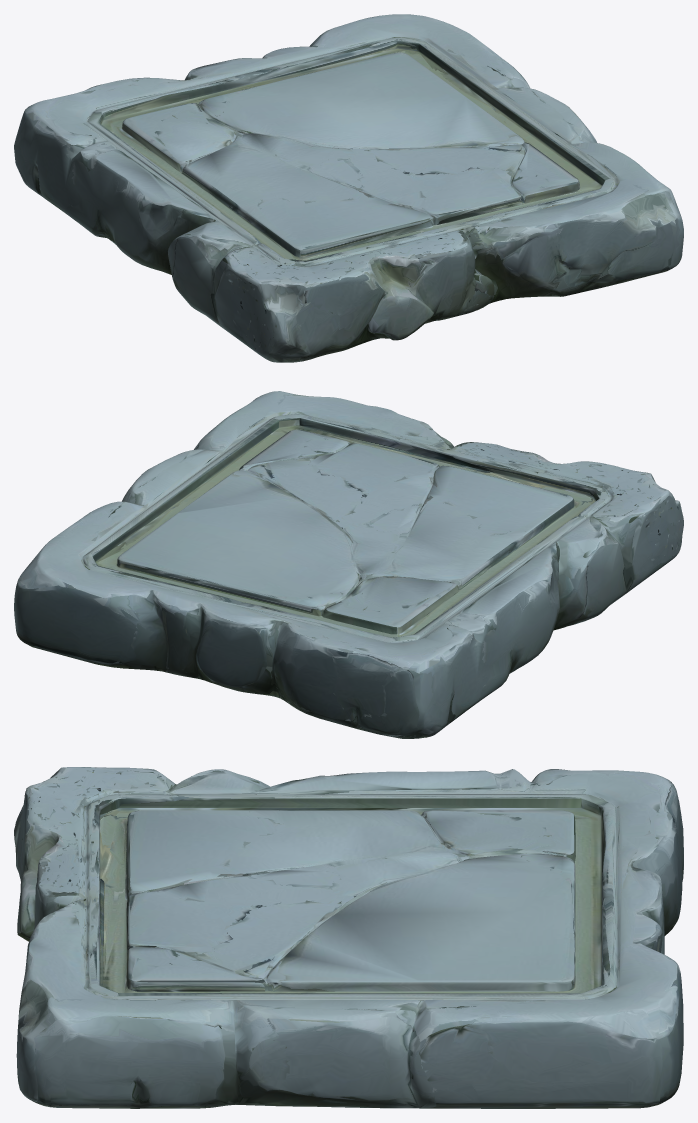
Rendered from slabA-compressed.glb.
3 views of the same model, one above another, from view 1: azimuth 30°, elevation 25°; view 2: azimuth 150°, elevation 25°; view 3: azimuth 270°, elevation 25° (orthographic). The views are drawn at different scales.
Visible parts, largest first — view 1: node_0; view 2: node_0; view 3: node_0.
Boxes of the visible parts, x1,y1,x2,y2 form: node_0: (14, 14, 683, 362); node_0: (14, 391, 683, 738); node_0: (14, 767, 683, 1108).
Bounding box in the file's own units: 1.2 × 0.2018 × 1.32.
Materials: 1 (1 with a texture image).
